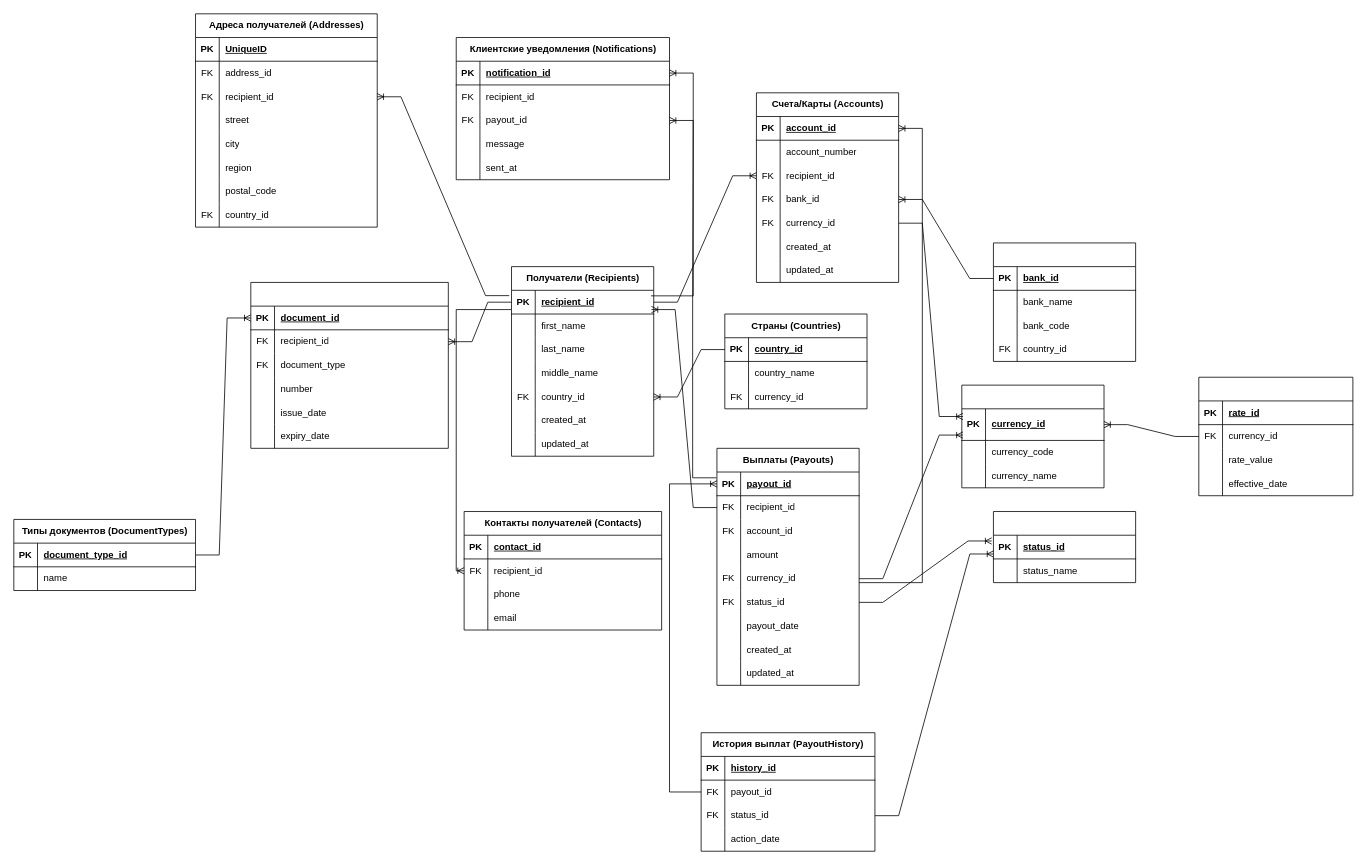
The diagram is 1367 pixels wide and 865 high, and some of its shapes have lost their labels. Each missing label, with the box of its shape:
Банки (Banks): (993, 242, 1136, 361)
Валюты (Currencies): (961, 384, 1104, 488)
Документы получателей (Documents): (250, 282, 448, 448)
Курс валют (ExchangeRates): (1198, 376, 1353, 496)
Статусы выплат (Statuses): (993, 511, 1136, 583)
